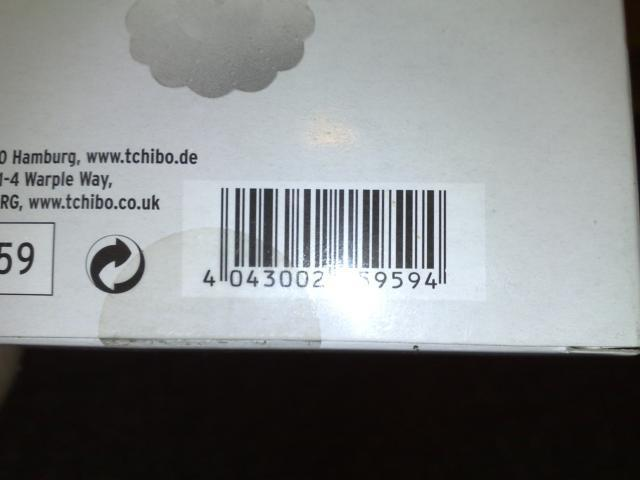Barcode: (197, 180, 455, 299)
